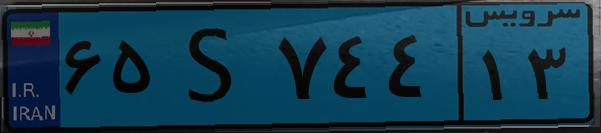1: (475, 38, 525, 113)
3: (525, 38, 570, 115)
4: (385, 28, 445, 110), (330, 28, 385, 110)
5: (110, 28, 158, 98)
6: (57, 26, 110, 100)
7: (270, 28, 330, 110)
S: (158, 12, 270, 120)
